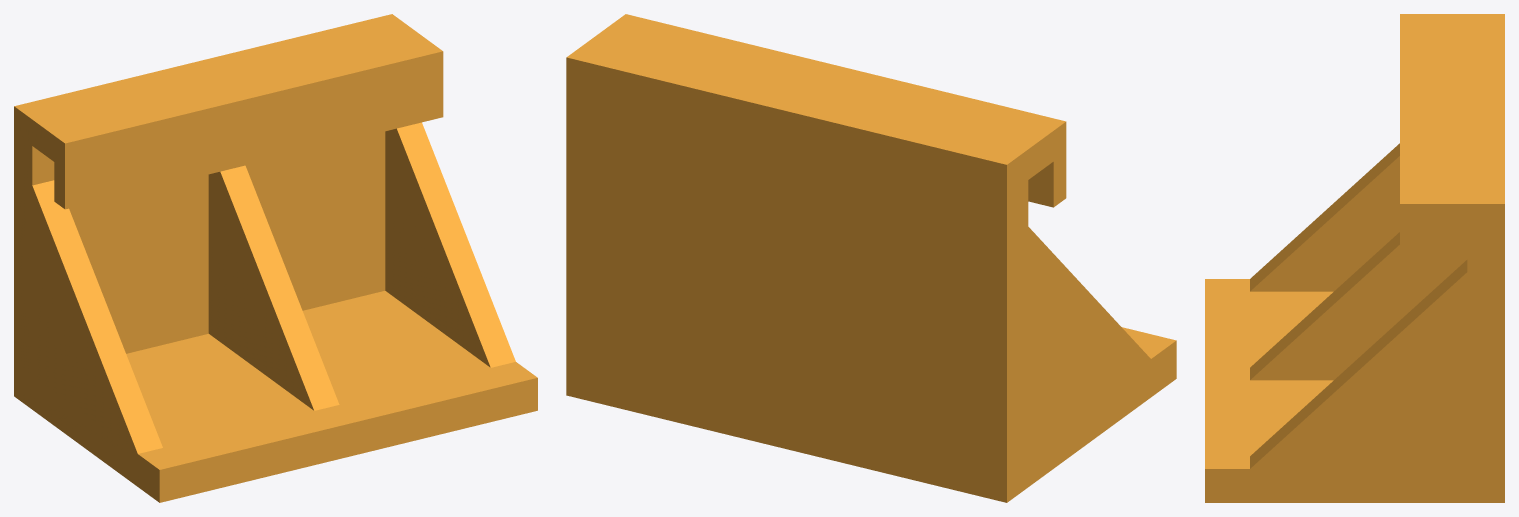
3 renders of one model, left to right at view 1: azimuth 30°, elevation 25°; view 2: azimuth 150°, elevation 25°; view 3: azimuth 270°, elevation 25°, orthographic. The views are drawn at different scales.
Parts seen in each view (by area): view 1: Bracket v4.5; view 2: Bracket v4.5; view 3: Bracket v4.5.
Boxes of the visible parts, box(x1,y1,x2,y2) form: Bracket v4.5: box(14, 14, 537, 502); Bracket v4.5: box(566, 14, 1176, 502); Bracket v4.5: box(1205, 14, 1504, 502).
Size of the model in its own units: 60 by 44 by 40.
